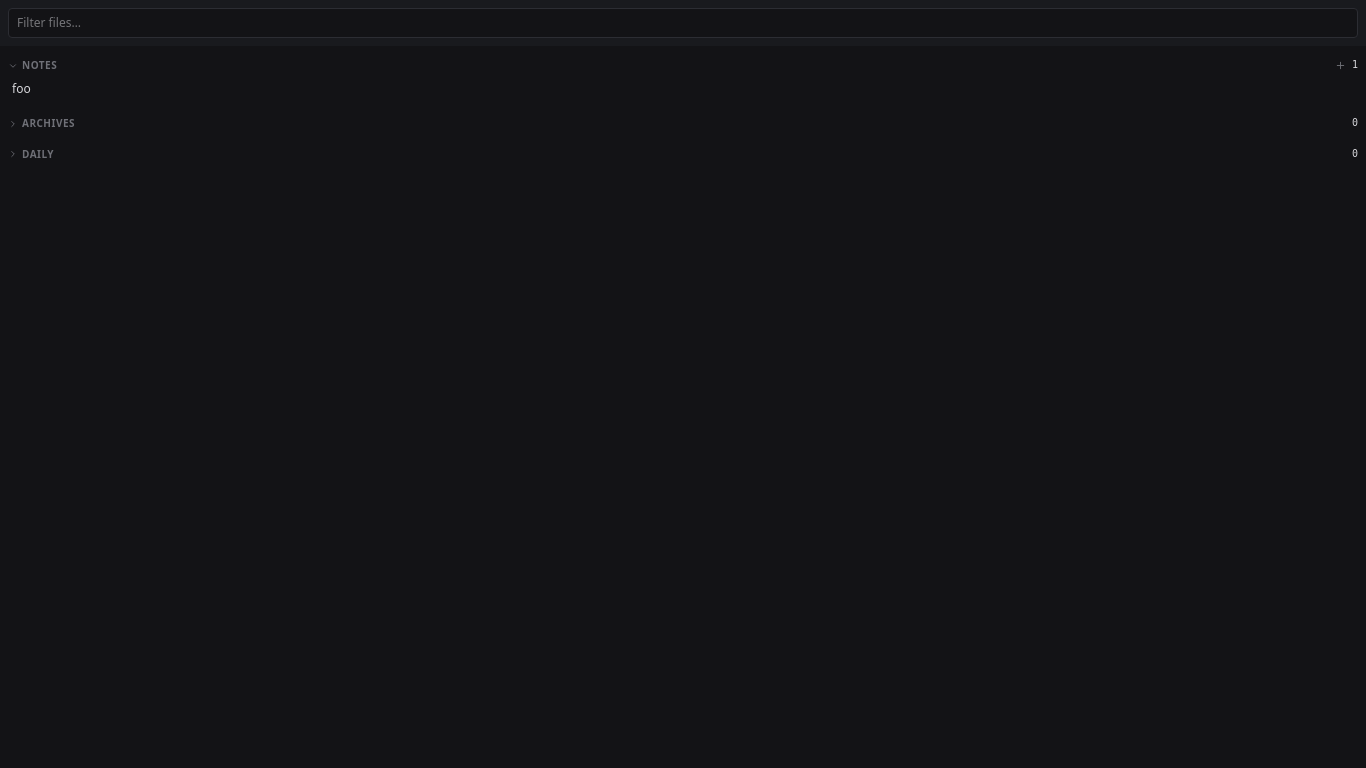
Test case: CreateNoteDialog › a failed create keeps the dialog open with the error and the input
The width and height of the screenshot is (1366, 768).
Step 1. Click the button with test id "create-note-button" → (1340, 66), box [1333, 58, 1348, 73]
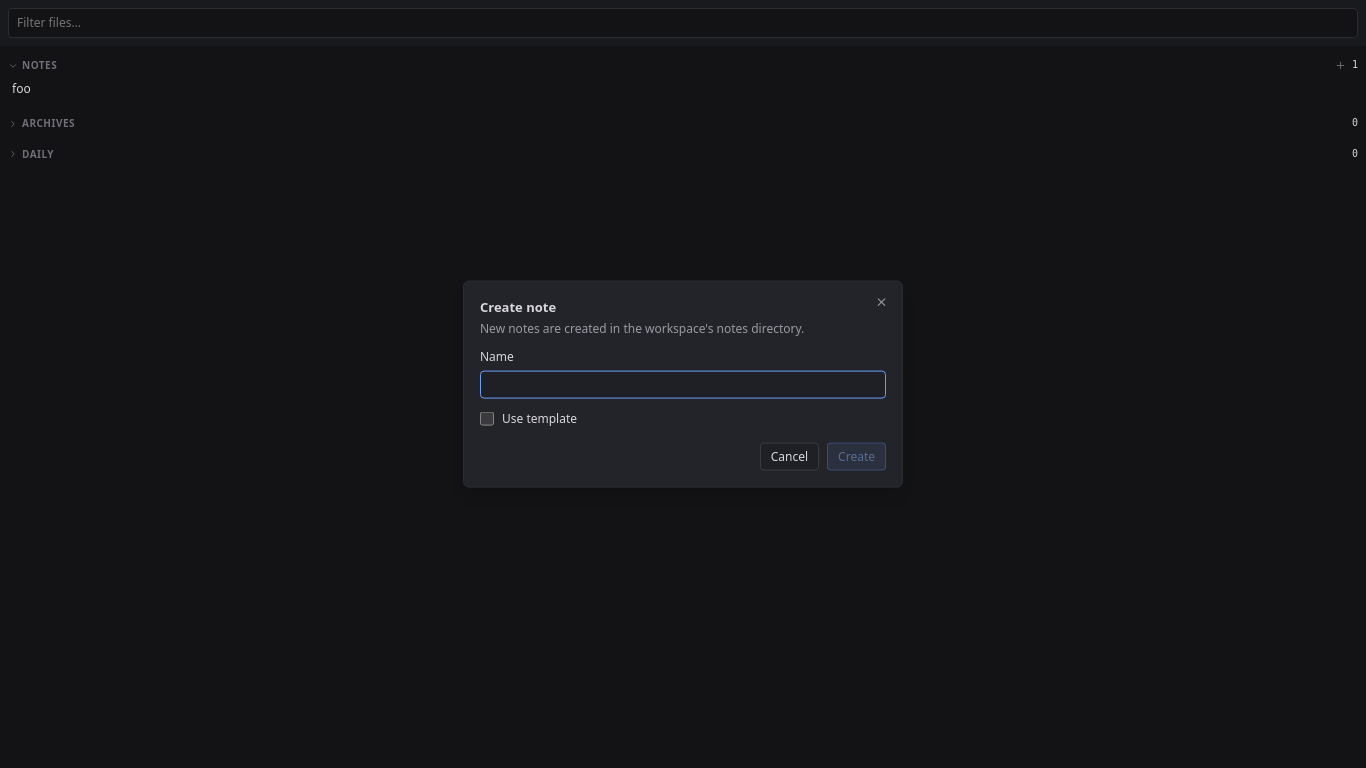
Expected: the field with test id "create-note-name" is shown
Step 2. Type "foo" into the field with test id "create-note-name" → (683, 384), box [480, 370, 886, 398]
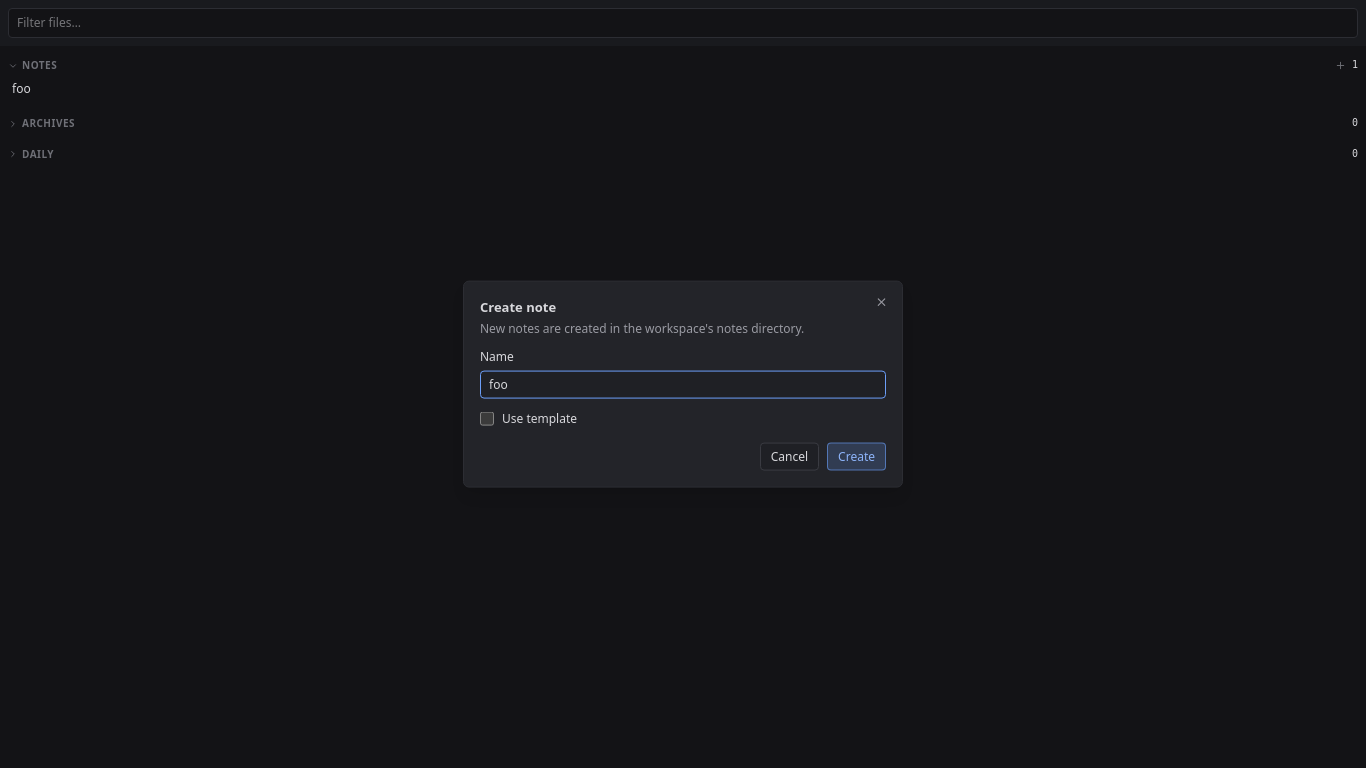
Step 3. Click the button with test id "create-note-submit" → (857, 456), box [827, 442, 886, 470]
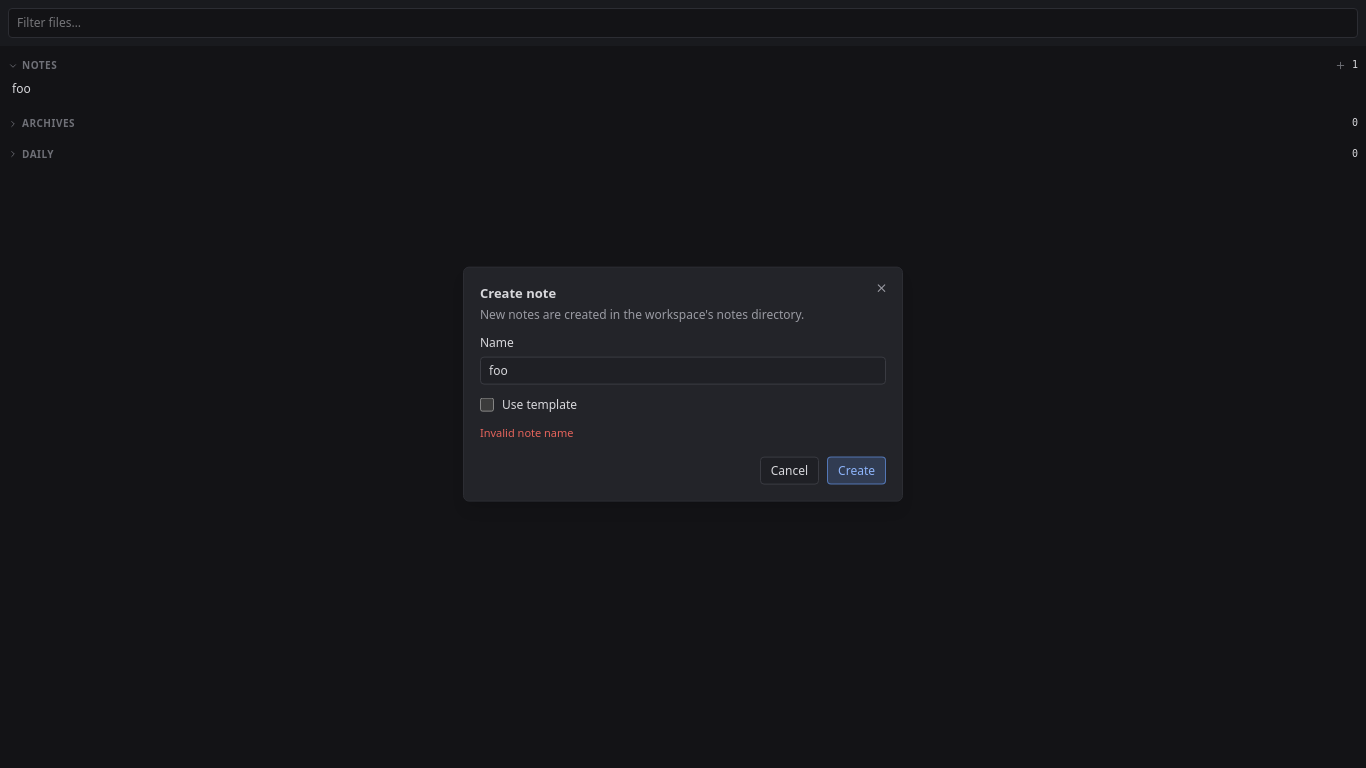
Expected: the message with test id "dialog-error" reads "Invalid note name", [480, 424, 574, 440]
